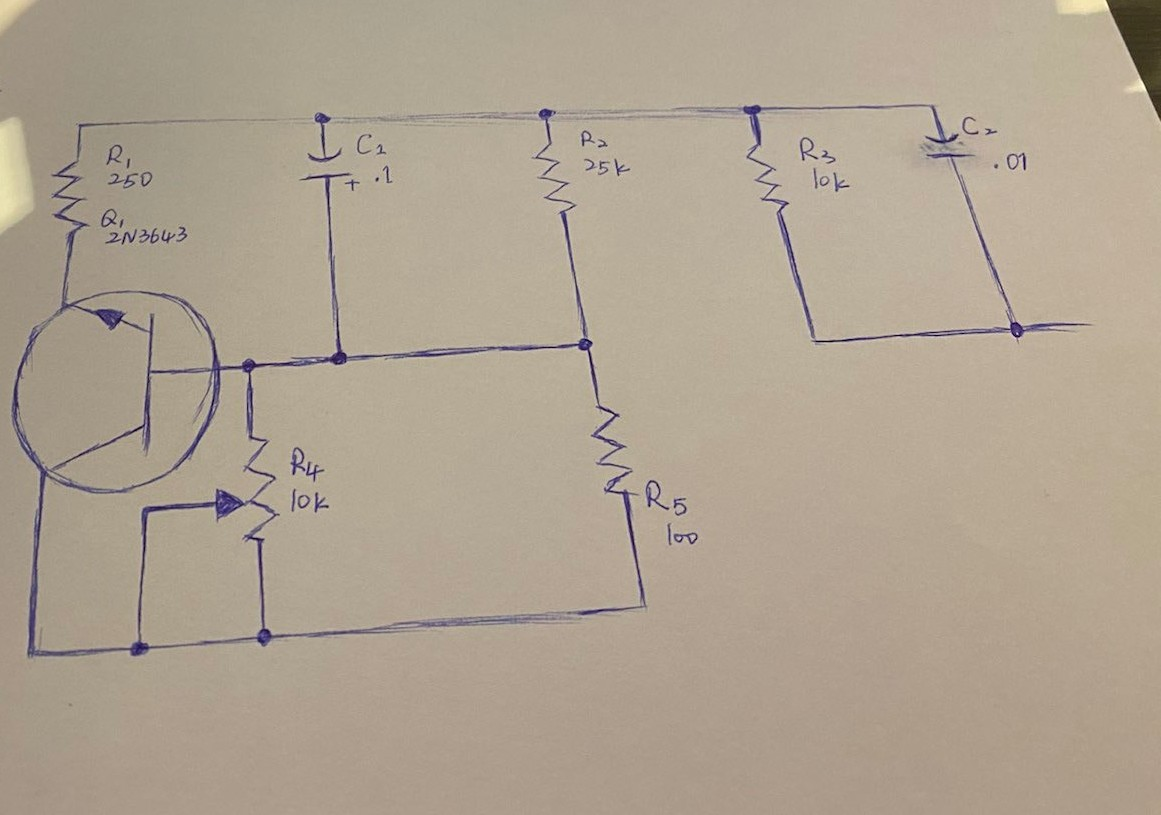capacitor.polarized: (298, 146, 361, 193)
capacitor.unpolarized: (915, 132, 964, 158)
junction: (120, 629, 163, 669), (244, 621, 285, 660), (1000, 311, 1037, 350), (318, 342, 359, 375), (566, 324, 601, 360), (626, 586, 661, 621), (734, 95, 771, 126), (18, 633, 49, 669), (799, 325, 832, 355), (304, 104, 337, 133), (234, 353, 267, 381), (128, 498, 162, 525), (532, 98, 561, 127), (918, 90, 944, 115), (69, 114, 90, 136)
resistor: (588, 403, 639, 500), (745, 141, 791, 215), (532, 139, 574, 220), (51, 156, 89, 240)
resistor.adjustable: (207, 431, 280, 549)
terminal: (1058, 310, 1111, 346)
text: (641, 478, 688, 518), (105, 227, 192, 246), (808, 165, 852, 199), (289, 445, 325, 482), (288, 487, 332, 517), (797, 134, 837, 166), (107, 170, 157, 193), (583, 156, 632, 179), (664, 522, 704, 550), (991, 150, 1032, 177), (354, 131, 388, 159), (576, 125, 611, 152), (961, 112, 999, 136), (101, 142, 132, 168), (96, 206, 125, 229), (373, 162, 395, 190)
transistor: (9, 289, 216, 491)
